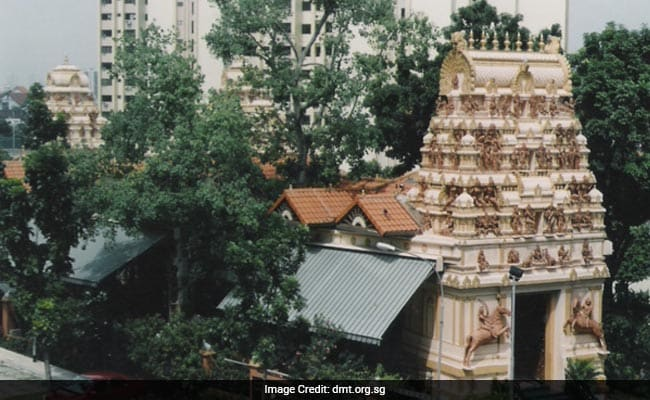Hindu Temple: (408, 38, 605, 372)
